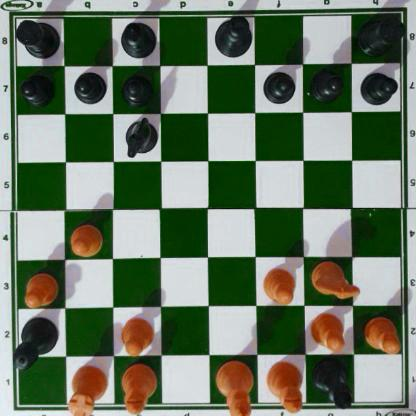black-bishop: (310, 356, 355, 410), (117, 22, 158, 59)
black-king: (212, 13, 253, 58)
black-knight: (123, 116, 156, 155)
black-pawn: (360, 69, 396, 105), (20, 72, 54, 104), (263, 69, 295, 103), (121, 70, 152, 105), (311, 68, 343, 101), (73, 70, 104, 104)
black-queen: (12, 315, 59, 371)
black-rook: (12, 15, 59, 58), (358, 9, 401, 54)
white-bishop: (265, 361, 304, 414), (120, 363, 158, 416)
white-king: (215, 360, 253, 416)
white-knight: (308, 259, 361, 299)
white-pawn: (308, 310, 346, 351), (67, 220, 105, 257), (119, 315, 155, 354), (363, 315, 400, 352), (22, 271, 58, 308), (262, 266, 295, 304)
white-rook: (66, 364, 108, 416)
